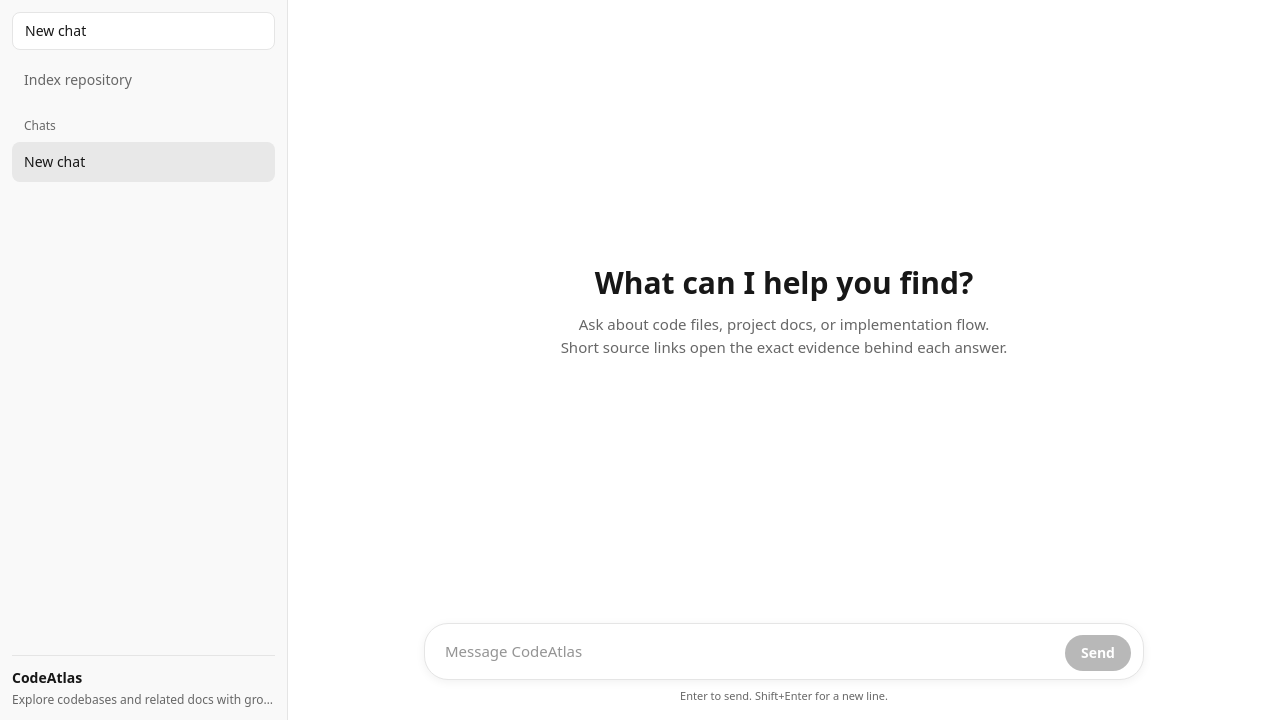
Test case: ChatView smoke test › streams an answer and renders an inline source link that opens the preview
This screenshot has width=1280, height=720.
Type "where is auth handled?" into the text box named "Question" at (747, 651), box [437,632,1057,670]
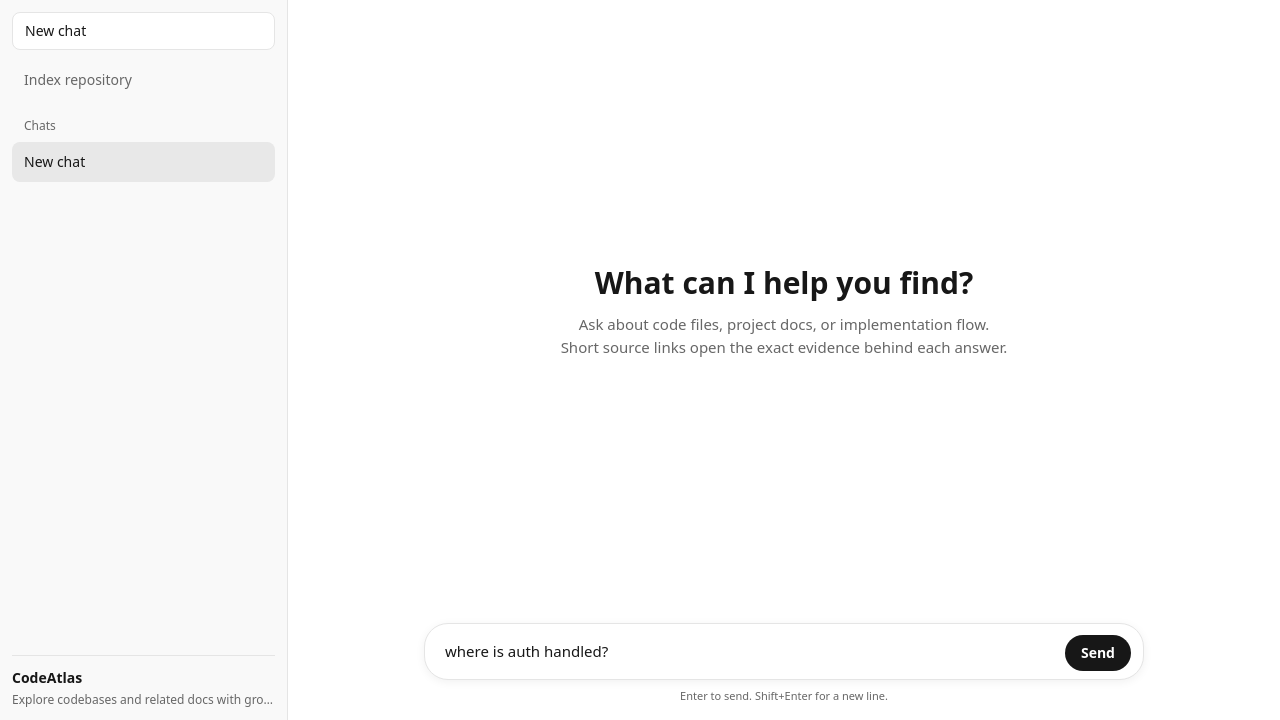
Click the button "Send" at (1098, 652), box [1065,634,1131,670]
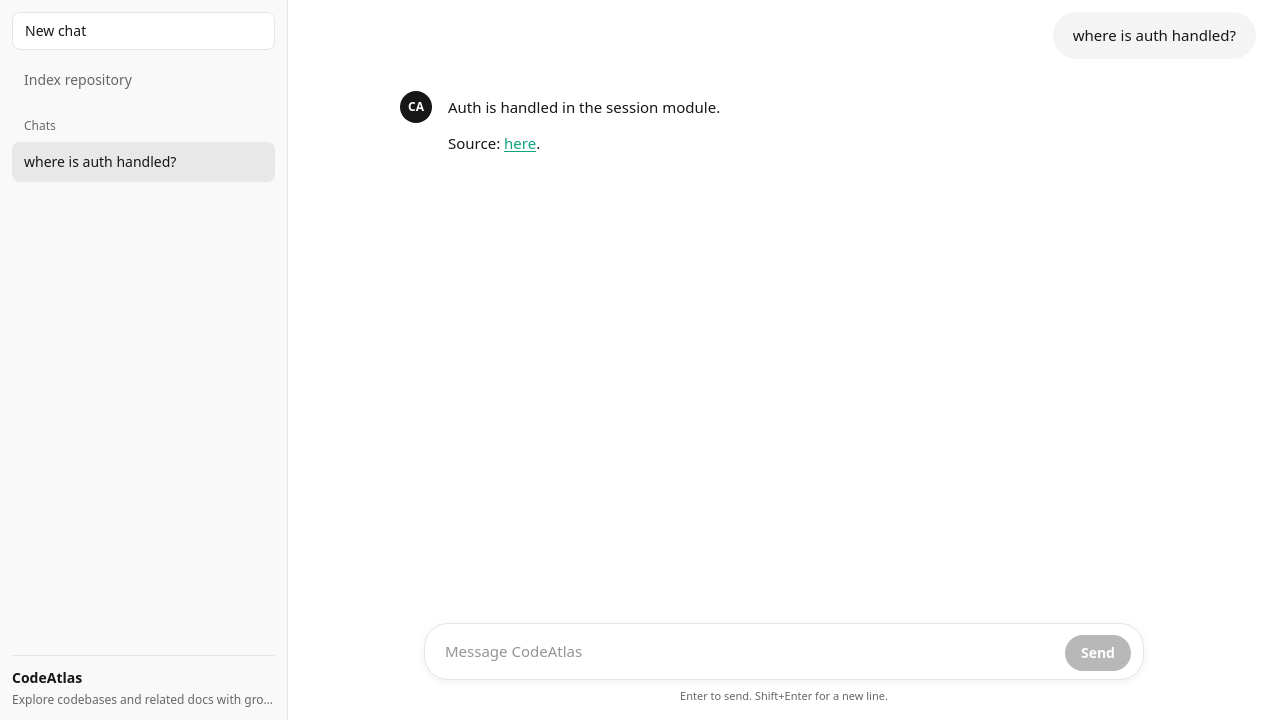
Expected: the button "where is auth handled?" is shown, [24,152,231,172]
Expected: the text "Auth is handled in the session module." is shown, [448,96,720,116]
Click the button "here" at (520, 144), box [504,131,536,157]
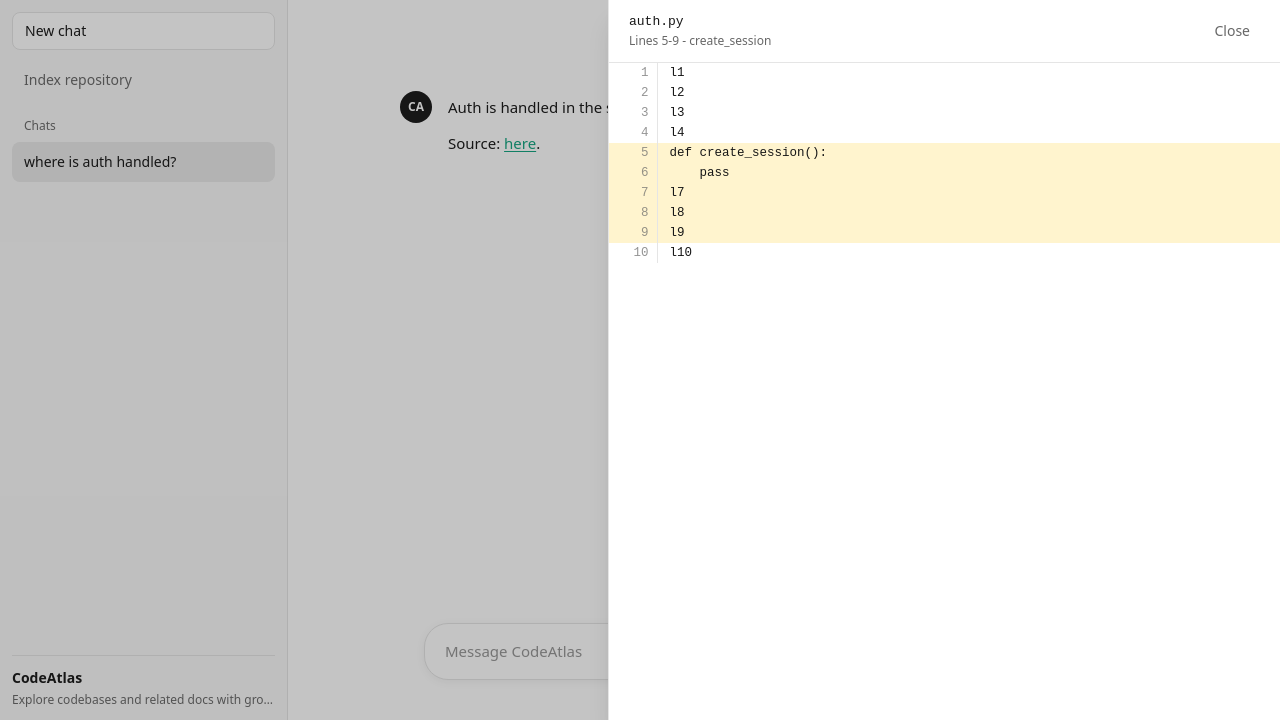
Expected: the text "def create_session():" is shown, [657,142,1279,162]
Expected: the text "Lines 5-9 - create_session" is shown, [629,32,771,50]
